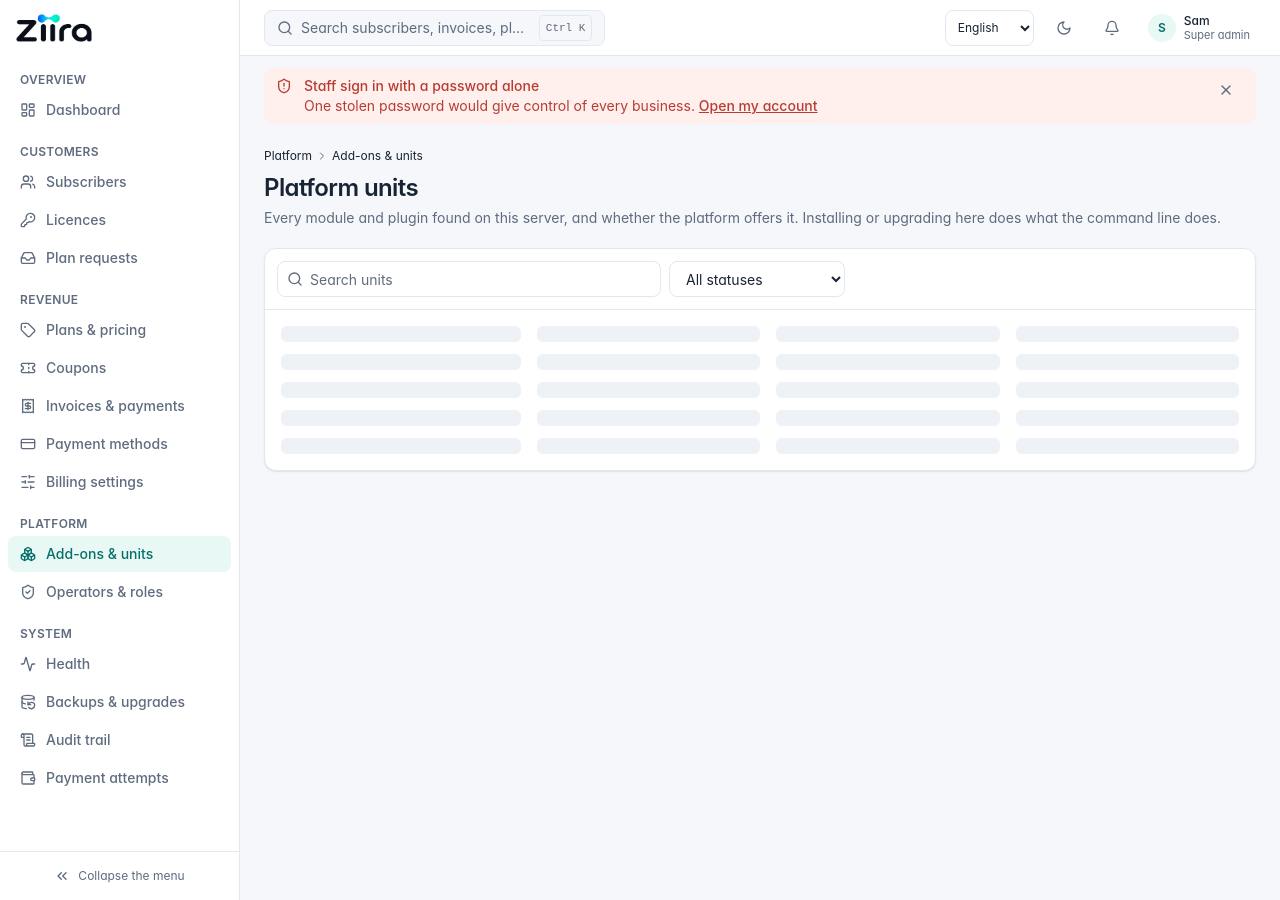
it: the warning when production has no second factor › shows once per browser session and can be dismissed
The image size is (1280, 900).
Expected: the text "Staff sign in with a password alone" is shown, [304,77,539,94]
Click the button named "Hide for now" at (1226, 90), box [1208,72,1244,108]
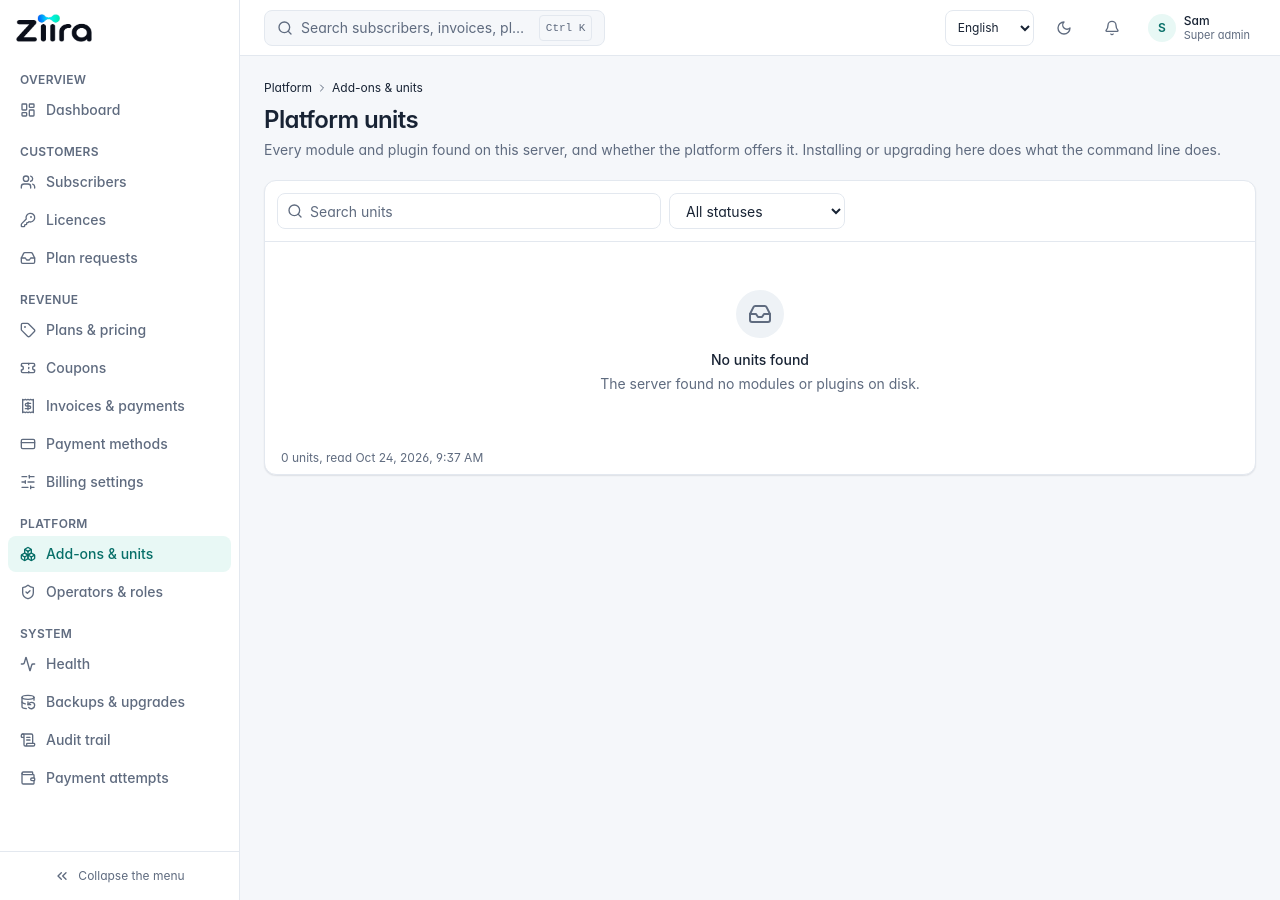
Now the text "Staff sign in with a password alone" is gone
